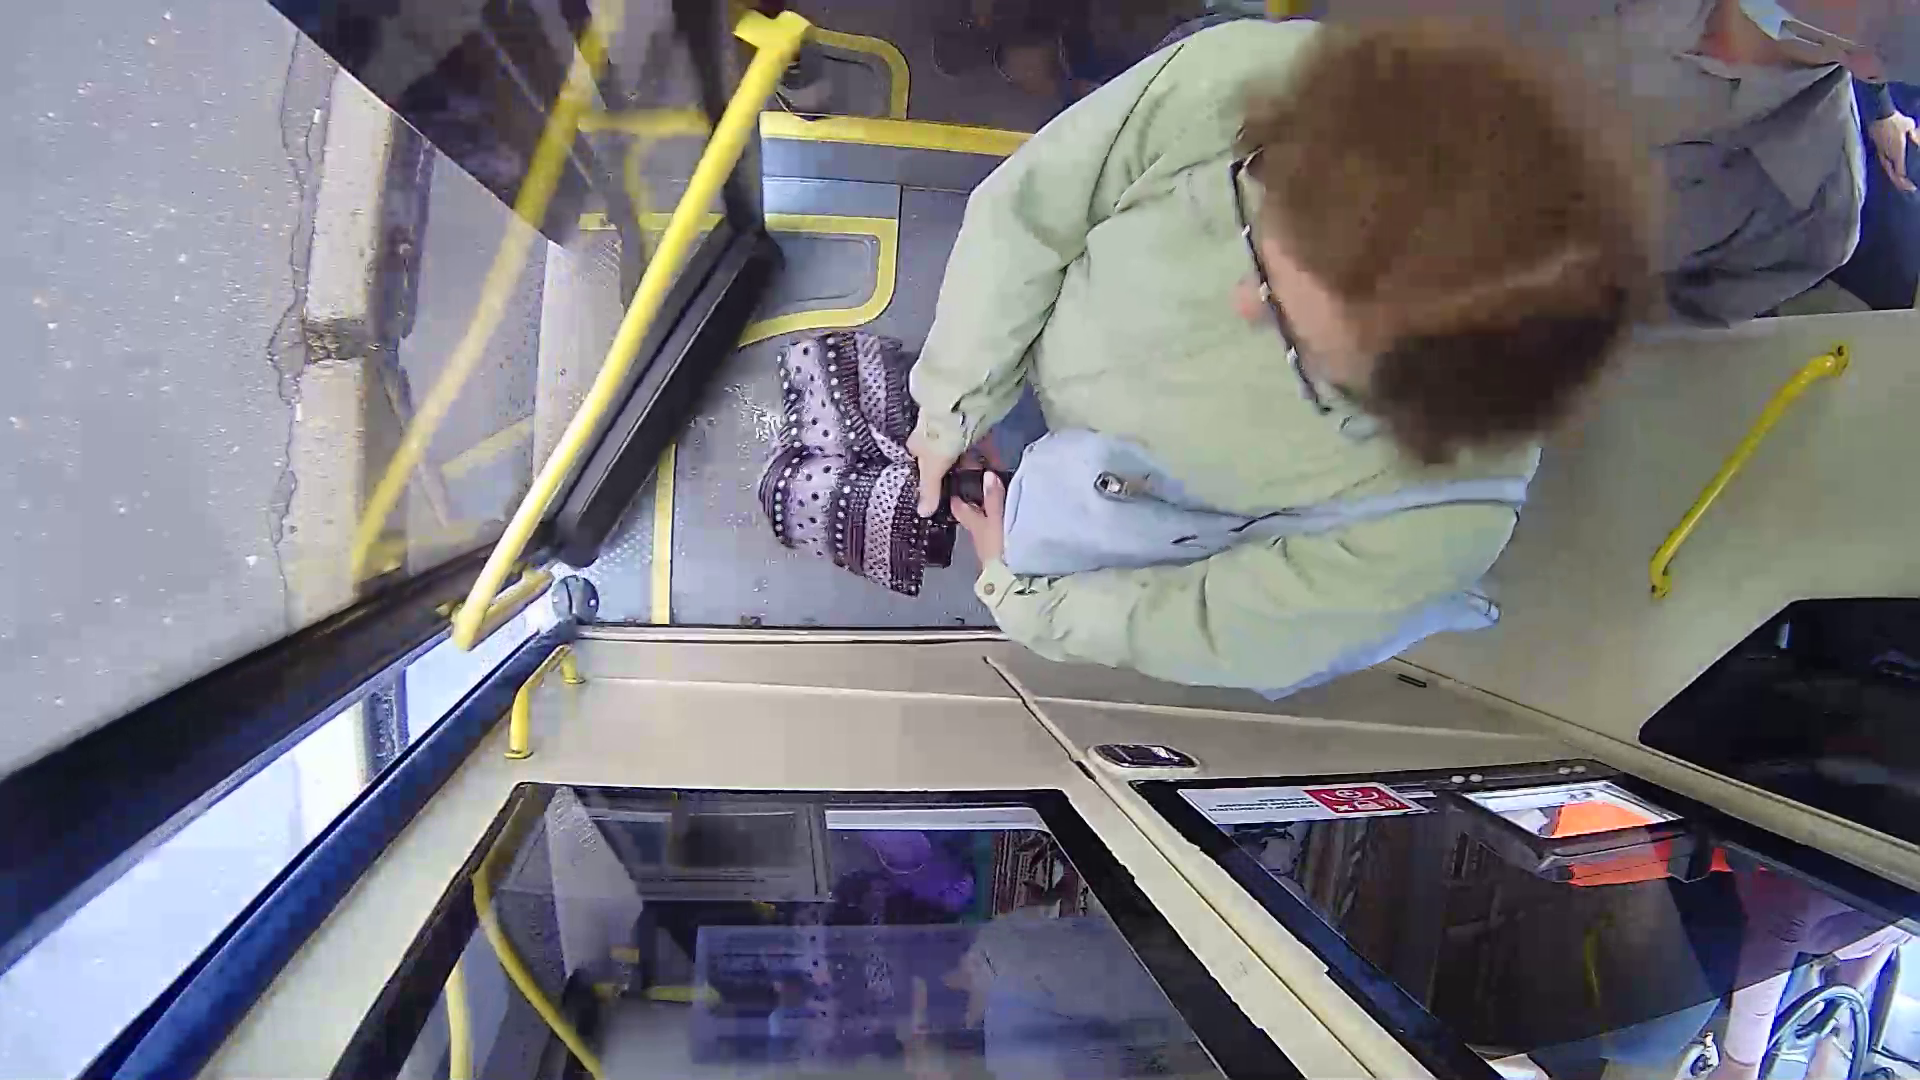person: (737, 5, 1641, 731)
